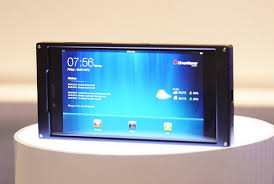bphone: (30, 39, 236, 147)
